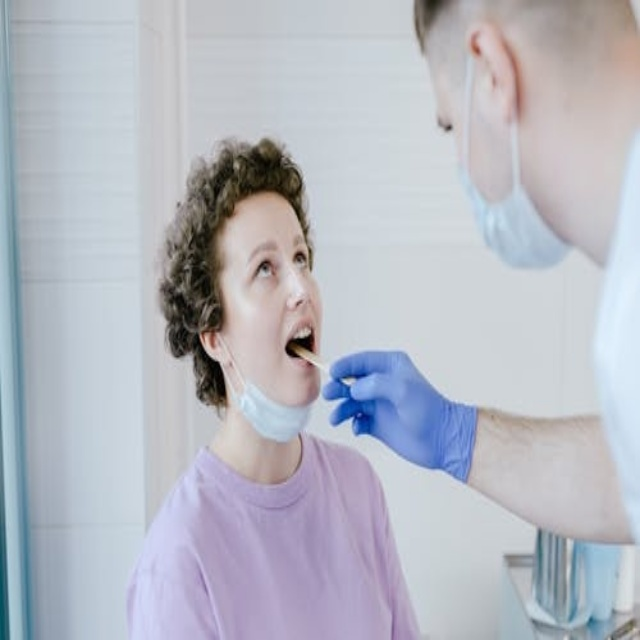Guantes: (323, 334, 484, 498)
Mascara: (434, 133, 586, 294)
Sin_gafas: (225, 231, 314, 290), (425, 65, 466, 163)
Sin_mascara: (259, 315, 324, 394)
